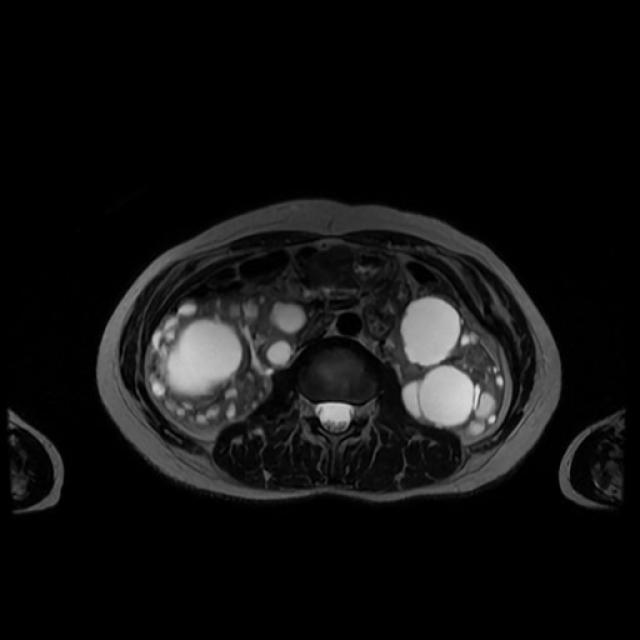sag: (150, 295, 308, 428)
sol: (396, 295, 507, 439)
